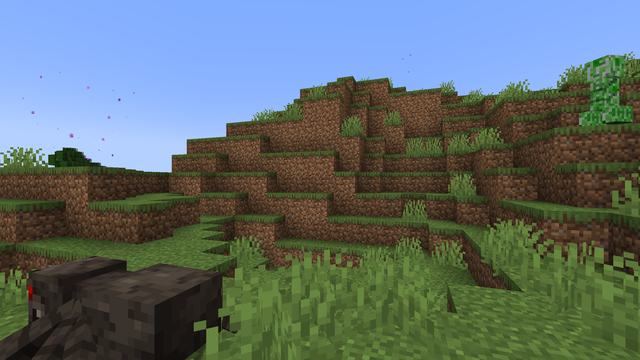araignees: (11, 238, 229, 357)
creepers: (581, 49, 629, 127)
